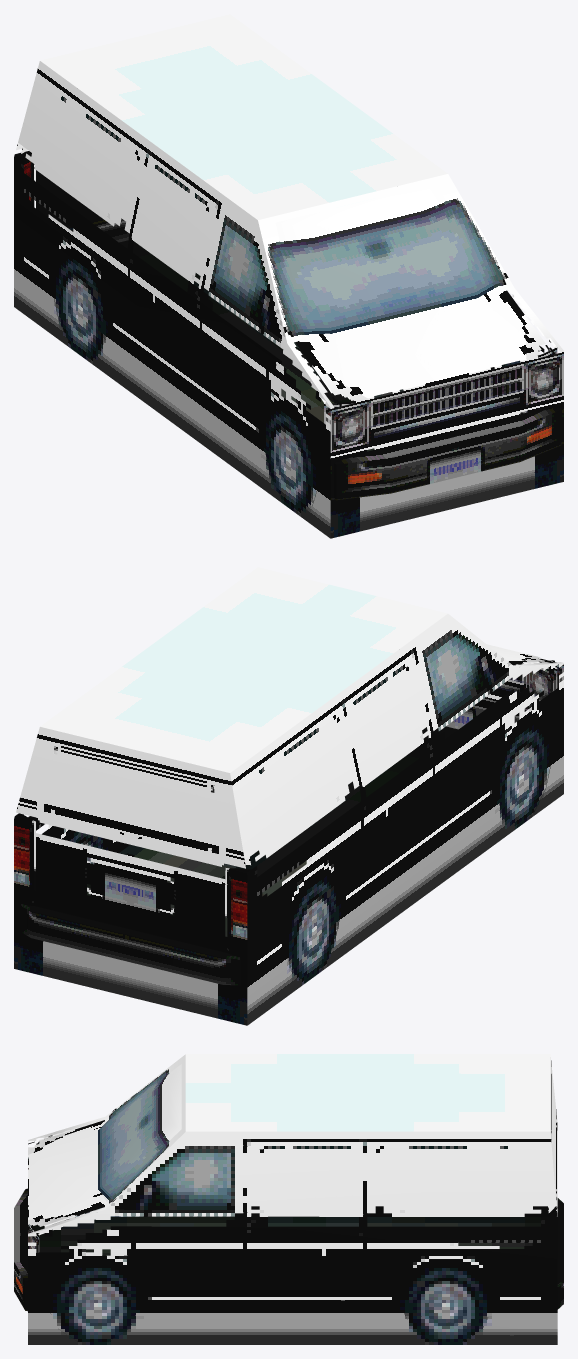
Rendered from traffic-58.glb.
The picture shows the model from 3 angles, top to bottom: view 1: azimuth 30°, elevation 25°; view 2: azimuth 150°, elevation 25°; view 3: azimuth 270°, elevation 25°; orthographic projection. The views are drawn at different scales.
Visible parts, largest first — view 1: head, body; view 2: head, body; view 3: head, body.
Part boxes in pixels (x1,y1,x2,y2): head: (14,14,563,538); body: (19,146,561,513); head: (14,567,563,1025); body: (19,644,557,985); head: (28,1054,557,1344); body: (14,1064,563,1337).
Bounding box in the file's own units: 18.92 × 18.87 × 46.04.
8 materials, 8 textured.
